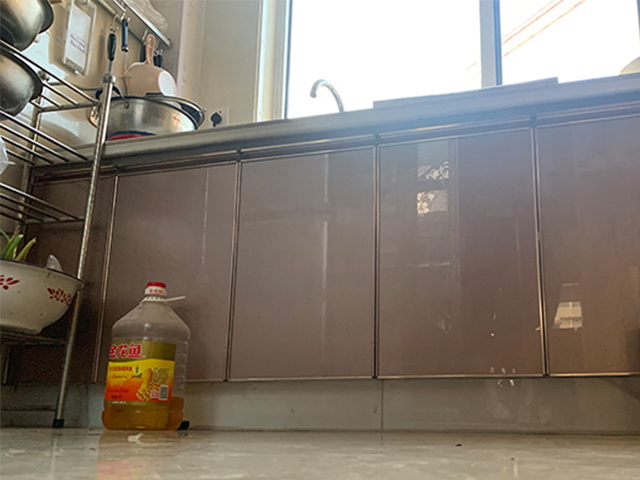cabinet: (100, 73, 640, 437)
